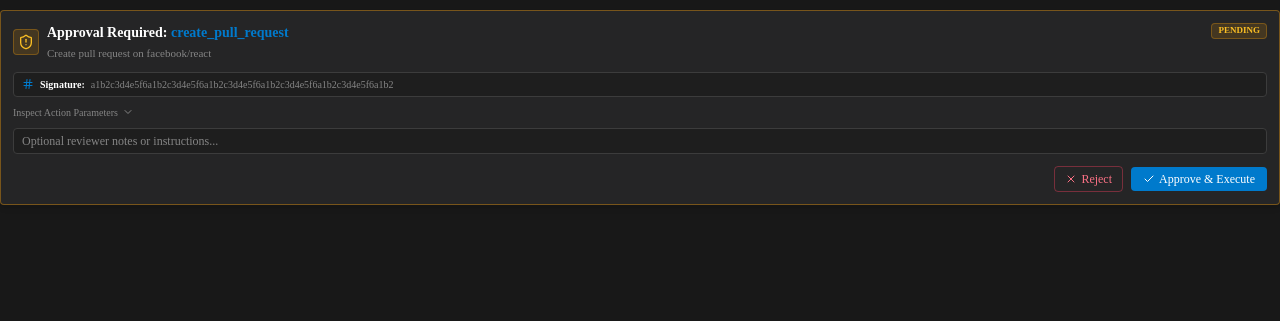
ApprovalCard Component › toggles action parameters display
The width and height of the screenshot is (1280, 321).
Step 1. Click the button "Inspect Action Parameters" → [74, 112], box top-left (13, 104), bottom-right (134, 120)
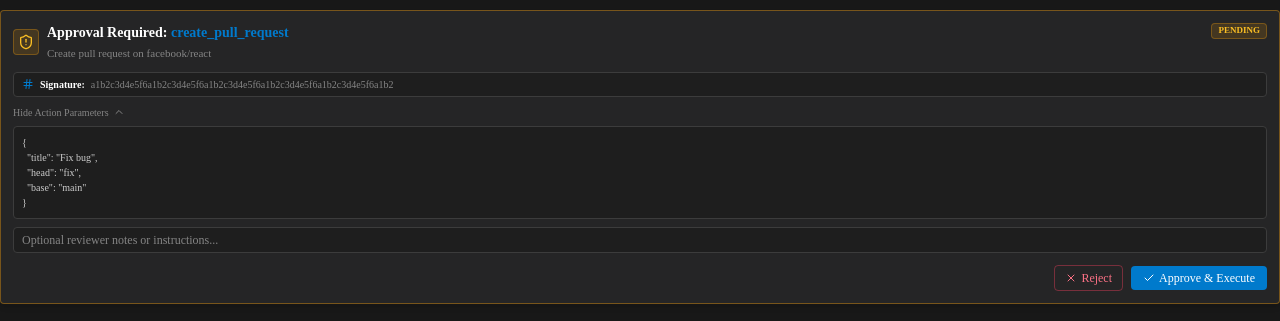
expect the text "Hide Action Parameters" is shown: met, box top-left (13, 104), bottom-right (108, 120)
expect the text "{ \"title\": \"Fix bug\", \"head\": \"fix\", \"base\": \"main\" }" is shown: met, box top-left (13, 126), bottom-right (1267, 218)
